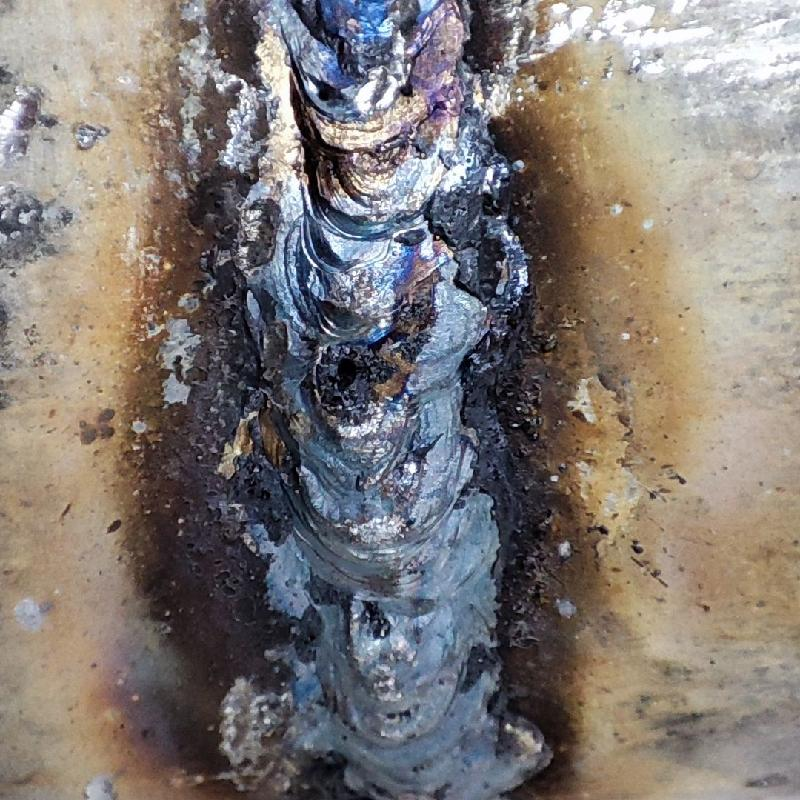Surface_pores: (318, 339, 391, 406), (303, 66, 353, 119), (391, 69, 431, 111)
